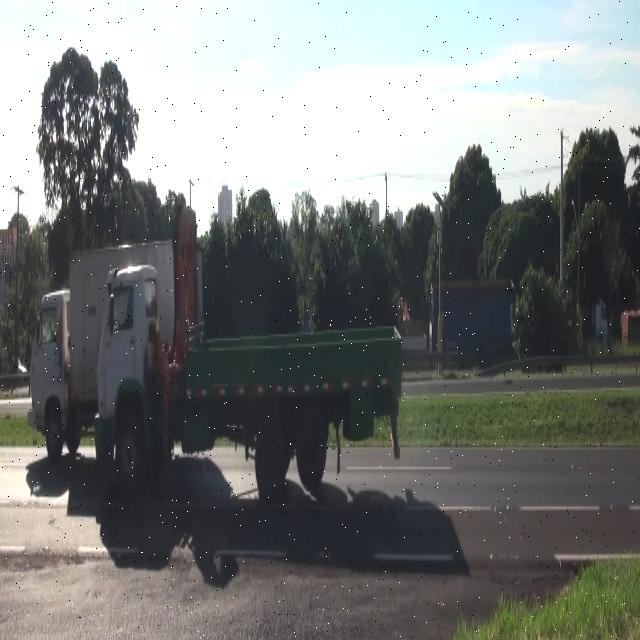-axle: (253, 408, 287, 498), (295, 402, 325, 491), (115, 413, 142, 487), (46, 416, 62, 464)
